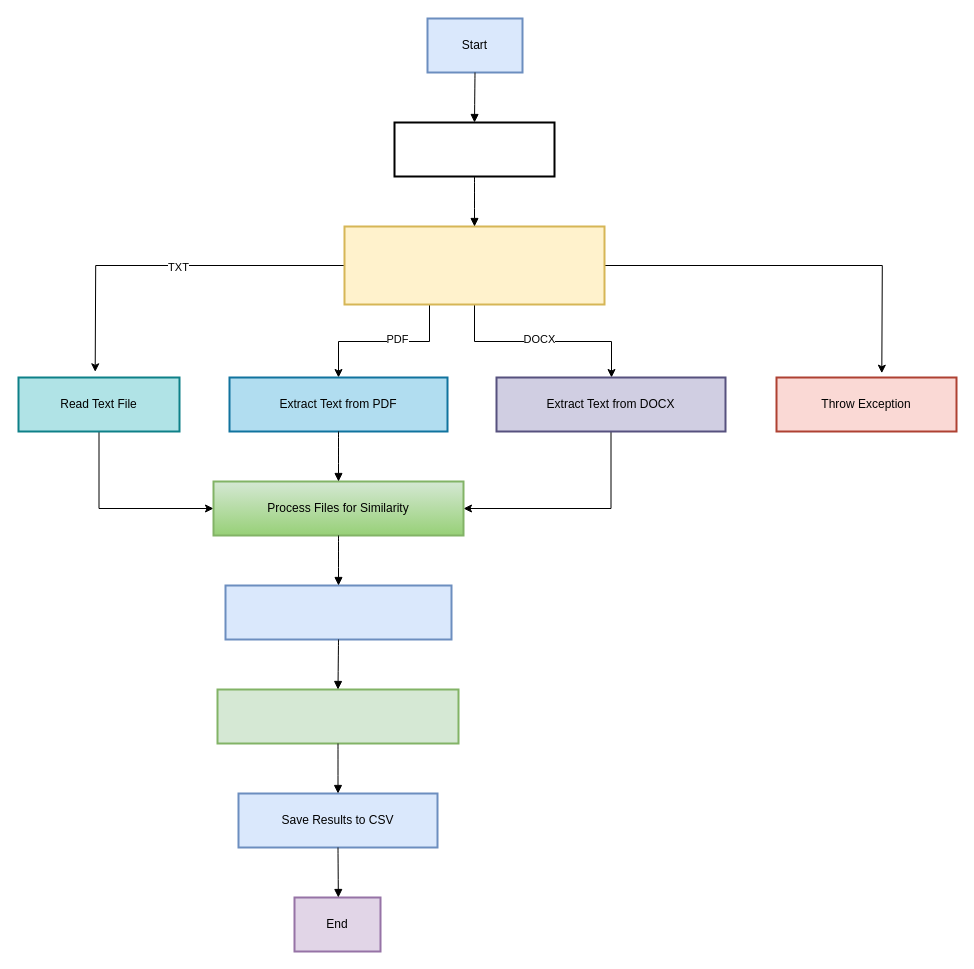
Some shapes in this 974 by 969 pixel diagram are drawn without their labels. The box of each missing label's shape, as (x1, y1, x2, y2) in pixels:
Compare Each File Pair: (224, 584, 452, 640)
Compute Similarity Score: (216, 688, 459, 744)
Get File Paths: (393, 121, 555, 177)
Read File Based on Extension: (343, 225, 605, 305)
